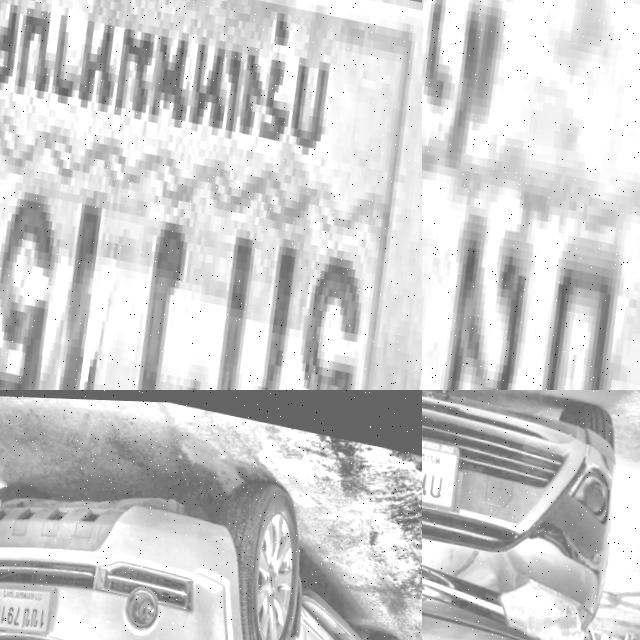license-plate: (0, 0, 422, 390), (422, 0, 640, 390), (0, 564, 61, 640), (422, 417, 464, 512)
